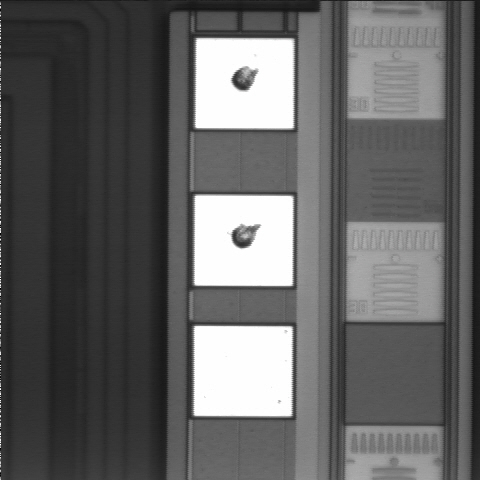pad: (196, 38, 294, 129), (195, 195, 293, 286), (194, 326, 292, 416)
